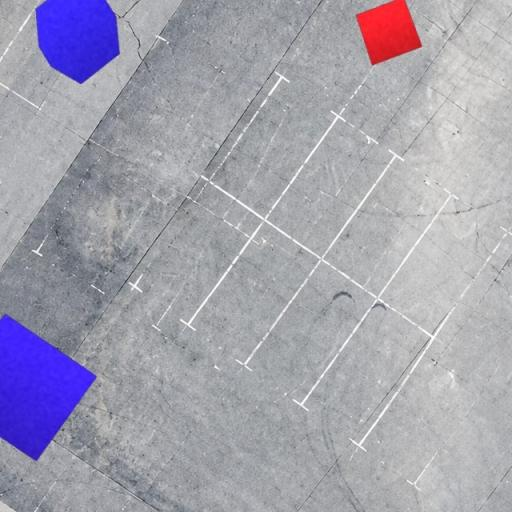BLUE_SQUARE: (0, 312, 98, 462)
RED_SQUARE: (355, 0, 423, 66)
